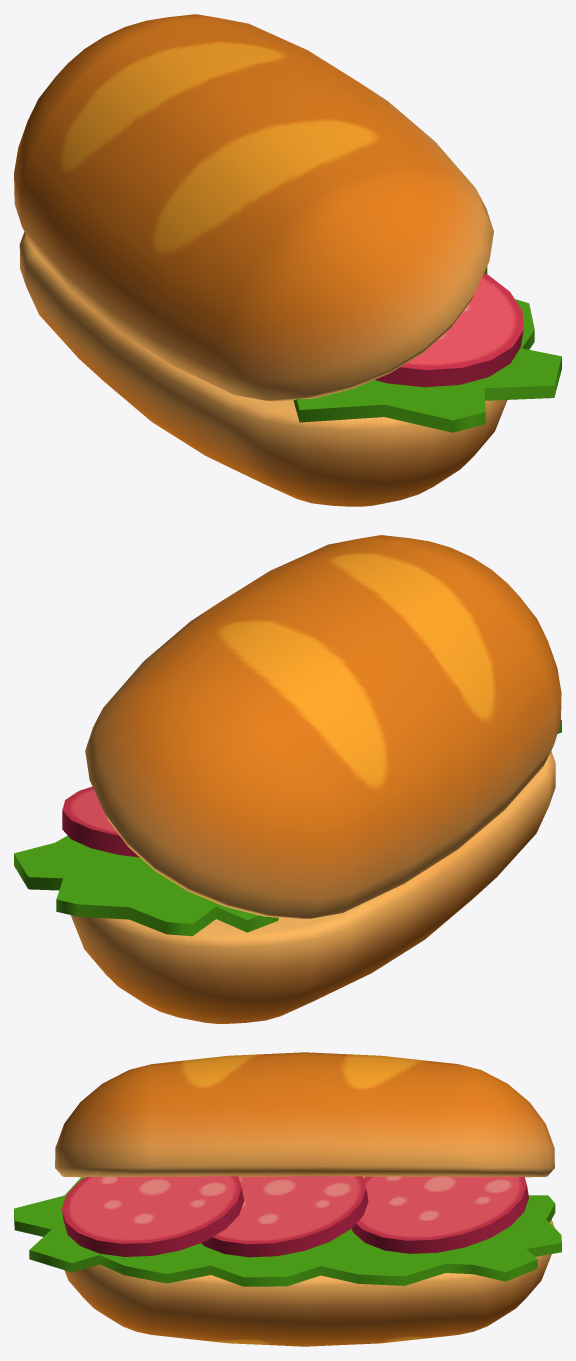
File: Sandwich.fbx
3 renders of one model, top to bottom at view 1: azimuth 30°, elevation 25°; view 2: azimuth 150°, elevation 25°; view 3: azimuth 270°, elevation 25°, orthographic. The views are drawn at different scales.
Visible parts, largest first — view 1: Sandwich; view 2: Sandwich; view 3: Sandwich.
Part boxes in pixels (x1,y1,x2,y2): Sandwich: (14, 14, 561, 506); Sandwich: (14, 535, 561, 1023); Sandwich: (14, 1052, 561, 1346).
Bounding box in the file's own units: 34.71 × 34.68 × 63.84.
